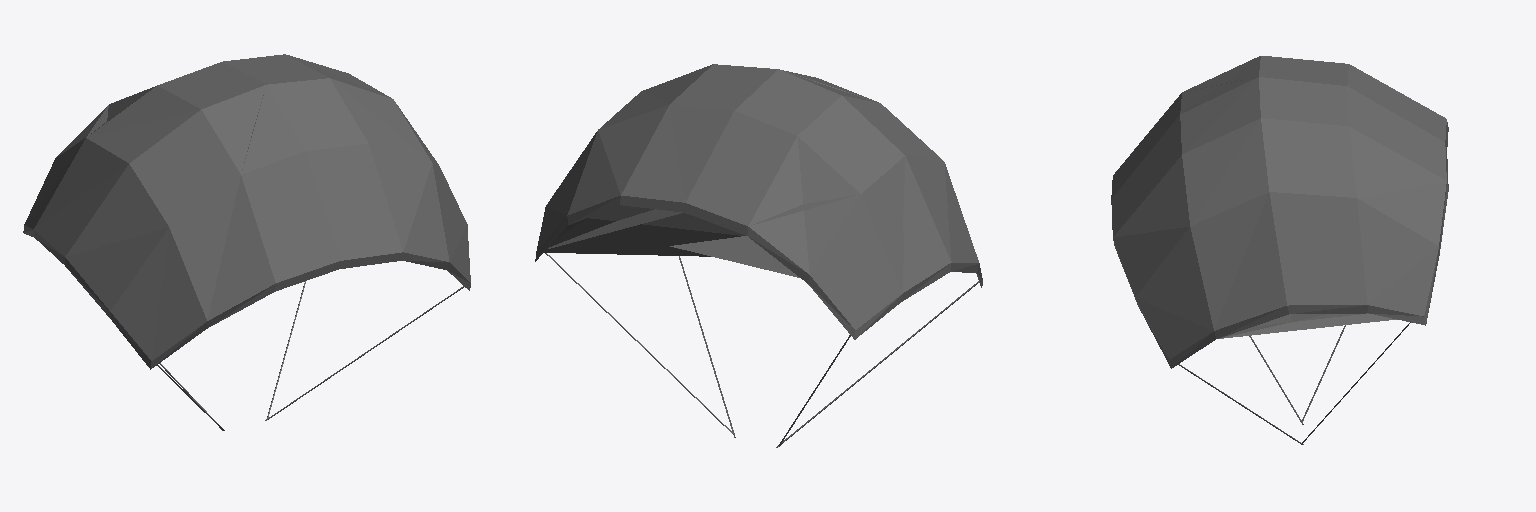
The model's file is Malva_explosivo_v1.obj.
3 renders of one model, left to right at view 1: azimuth 30°, elevation 25°; view 2: azimuth 150°, elevation 25°; view 3: azimuth 270°, elevation 25°, orthographic.
Visible parts, largest first — view 1: Box002, Cylinder001; view 2: Box002, Cylinder001; view 3: Box002, Cylinder001, Cylinder002.
Part boxes in pixels (x1,y1,x2,y2): Box002: (23, 54, 470, 430); Cylinder001: (65, 95, 263, 256); Box002: (535, 64, 982, 447); Cylinder001: (544, 70, 950, 277); Box002: (1111, 56, 1448, 444); Cylinder001: (1196, 80, 1396, 338); Cylinder002: (1219, 313, 1368, 338).
Size of the model in its own units: 5.98 by 5.47 by 4.67.